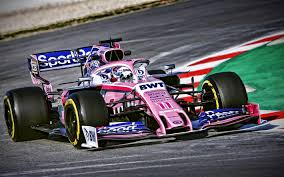FormulaOneCar: (3, 43, 274, 147)
